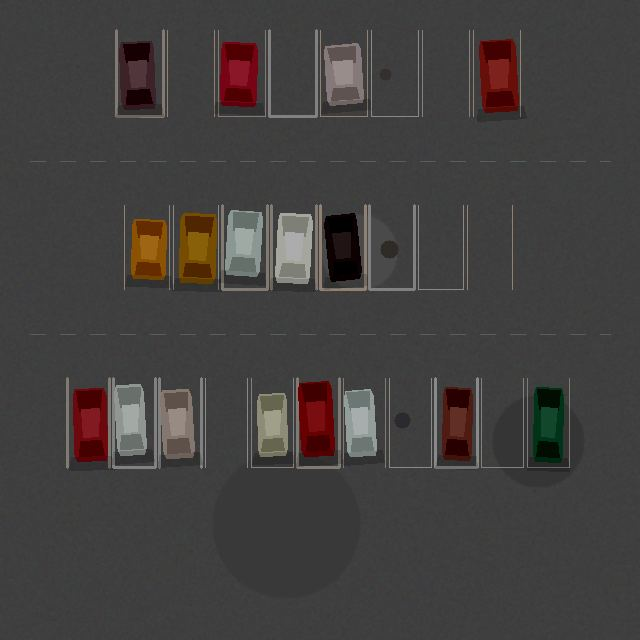space-empty: (167, 30, 214, 116), (269, 30, 316, 116), (371, 30, 418, 116), (422, 30, 469, 116), (369, 205, 414, 289), (418, 205, 463, 289), (467, 205, 512, 289), (205, 378, 247, 467), (389, 378, 431, 467), (481, 378, 523, 467)
space-occupied: (116, 30, 163, 116), (218, 30, 265, 116), (320, 30, 367, 116), (473, 30, 520, 116), (124, 205, 169, 289), (173, 205, 218, 289), (222, 205, 267, 289), (271, 205, 316, 289), (320, 205, 365, 289), (67, 378, 109, 467), (113, 378, 155, 467), (159, 378, 201, 467), (251, 378, 293, 467), (297, 378, 339, 467), (343, 378, 385, 467), (435, 378, 477, 467), (527, 378, 569, 467)
